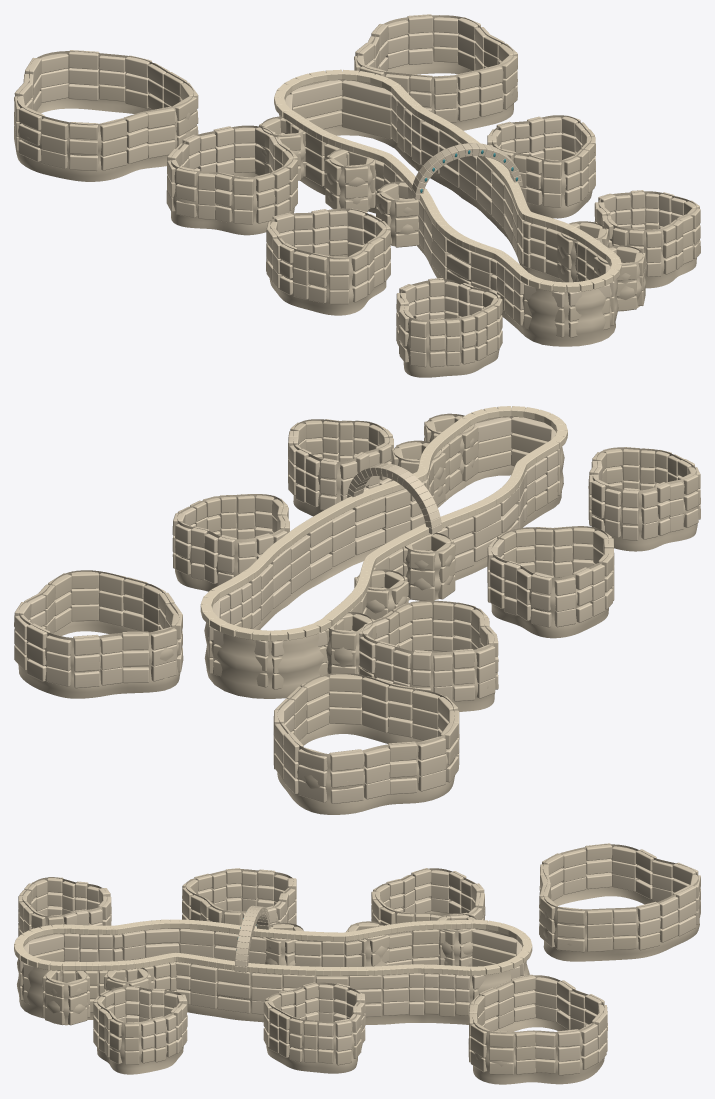
File: oasis-course-1.glb
The picture shows the model from 3 angles, top to bottom: view 1: azimuth 30°, elevation 25°; view 2: azimuth 150°, elevation 25°; view 3: azimuth 270°, elevation 25°; orthographic projection. The views are drawn at different scales.
Parts seen in each view (by area): view 1: Oasis artisan masonry; view 2: Oasis artisan masonry; view 3: Oasis artisan masonry.
Part boxes in pixels (left/top/right/bottom): Oasis artisan masonry: left=14, top=14, right=700, bottom=377; Oasis artisan masonry: left=14, top=406, right=700, bottom=814; Oasis artisan masonry: left=14, top=843, right=700, bottom=1084.
Size of the model in its own units: 17.73 by 4.07 by 26.89.
